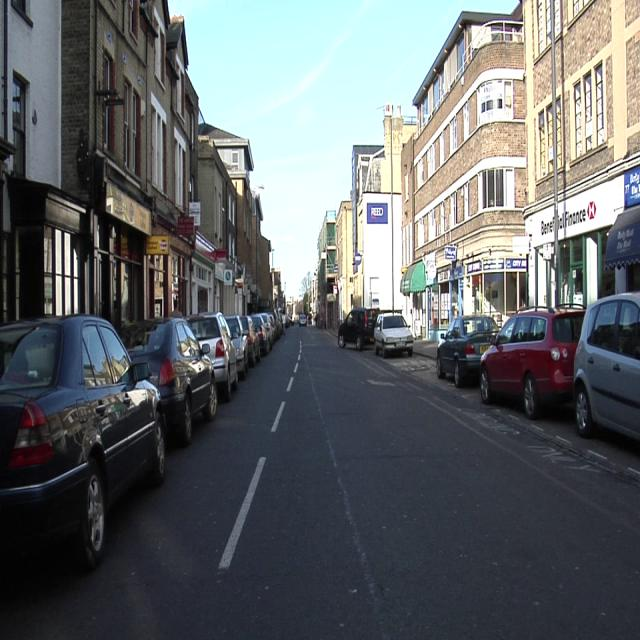Building: (61, 0, 199, 327), (401, 7, 526, 339), (520, 0, 640, 306), (316, 105, 414, 328), (200, 123, 271, 312), (190, 123, 252, 314)
Car: (0, 315, 165, 567), (120, 318, 218, 446), (479, 307, 585, 418), (574, 293, 640, 439), (436, 315, 499, 387), (189, 312, 238, 401), (374, 313, 412, 358), (338, 308, 380, 348), (241, 313, 272, 365), (226, 315, 249, 379), (299, 313, 308, 326)
Road: (0, 327, 640, 638)
